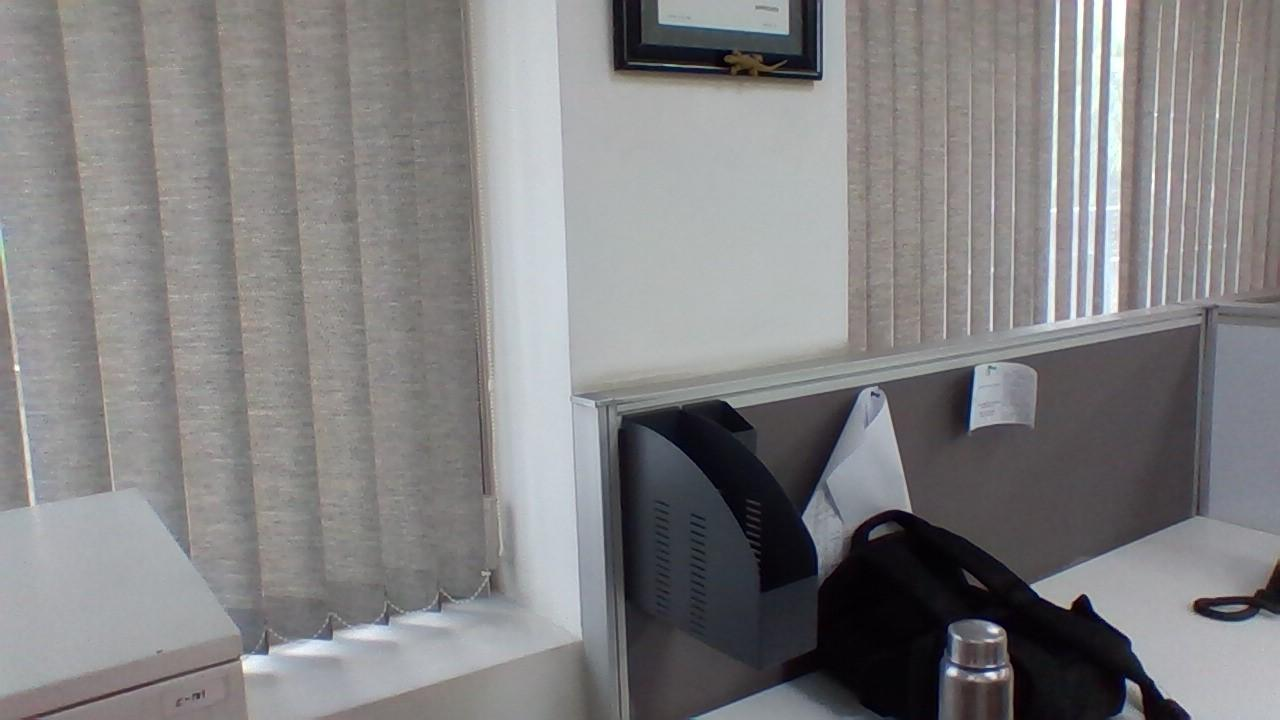lizard: (709, 40, 802, 87)
